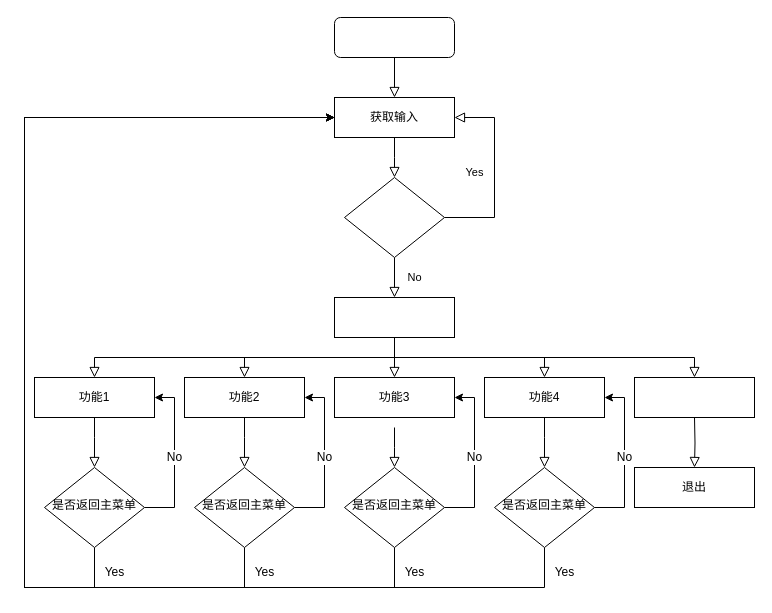
Some shapes in this 772 by 613 pixel diagram are drawn without their labels. The centre of each missing label's shape, as x and y in pixels:
"功能5" goes at (x=694, y=397).
"开始" goes at (x=394, y=37).
"根据输入选择功能" goes at (x=394, y=317).
"输入是否有问题" goes at (x=394, y=217).
